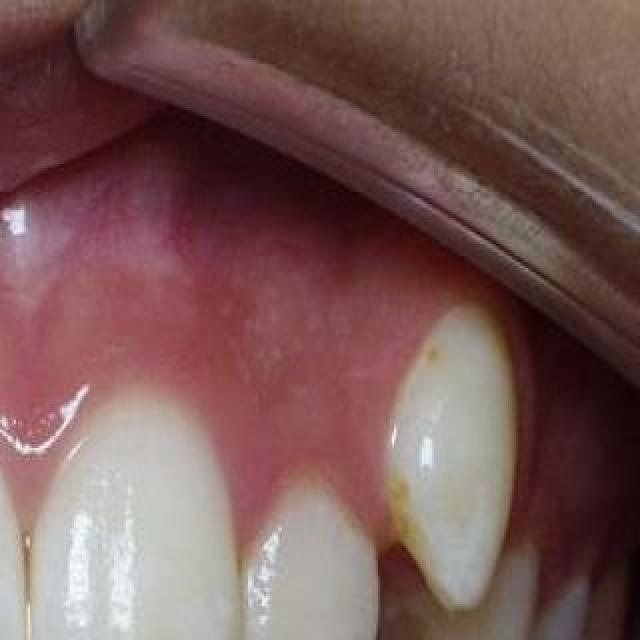maligned: (355, 282, 527, 564)
stains: (360, 366, 476, 574)
